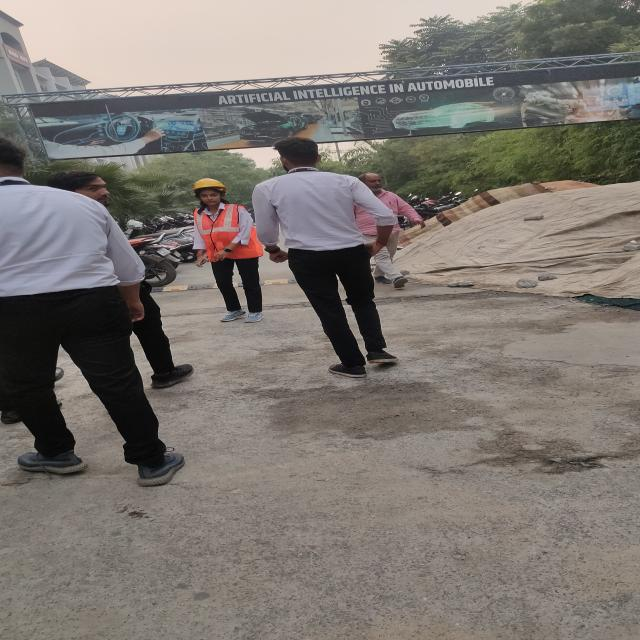safe: (191, 178, 268, 324)
unsafe: (0, 138, 186, 487), (251, 139, 405, 379), (356, 172, 422, 290)
